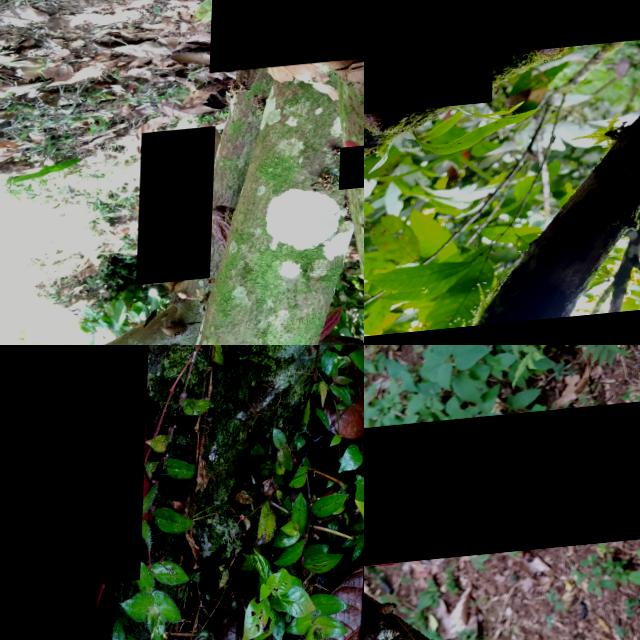Fitoftora: (211, 0, 364, 78)
Monilia: (364, 404, 640, 576), (0, 345, 108, 640)
Sana: (93, 345, 150, 592), (140, 132, 218, 289), (0, 345, 18, 518), (342, 152, 364, 197)
